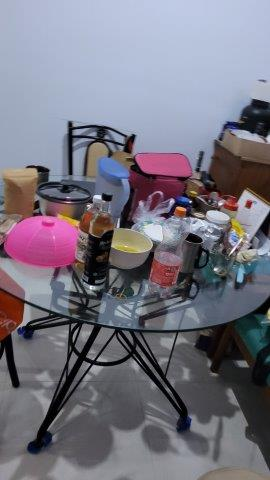botolkaca: (85, 193, 113, 290)
